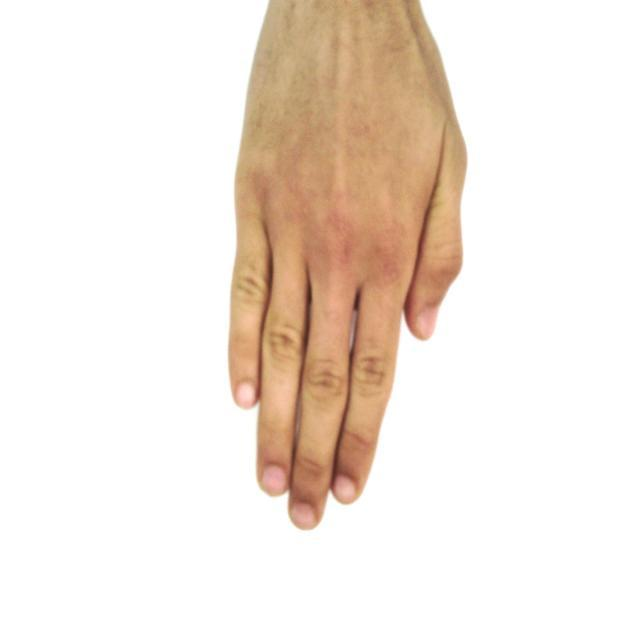Fingernail: (264, 466, 286, 495), (293, 503, 317, 529), (333, 477, 356, 501), (237, 382, 255, 408), (422, 309, 437, 339)
